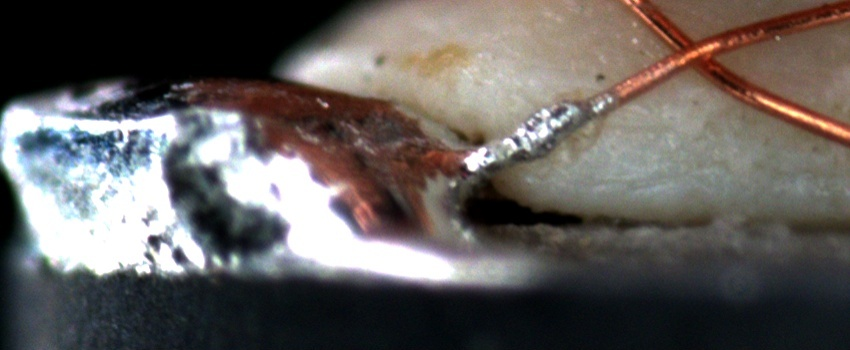CL: (652, 25, 740, 84)
DL: (600, 109, 679, 147)
TB: (495, 96, 588, 167)
TS: (467, 91, 613, 172)
TTCW: (467, 74, 641, 173)
